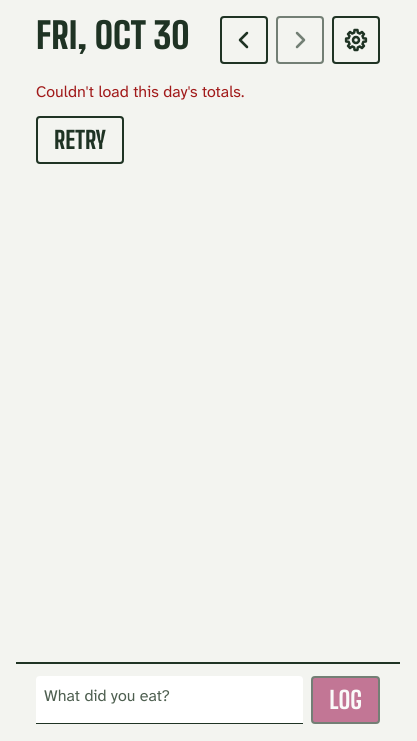
Test: Today when entries can't load › loads again on Retry
This screenshot has width=417, height=741.
Click the button "Retry" at (80, 140), box [36,116,124,164]
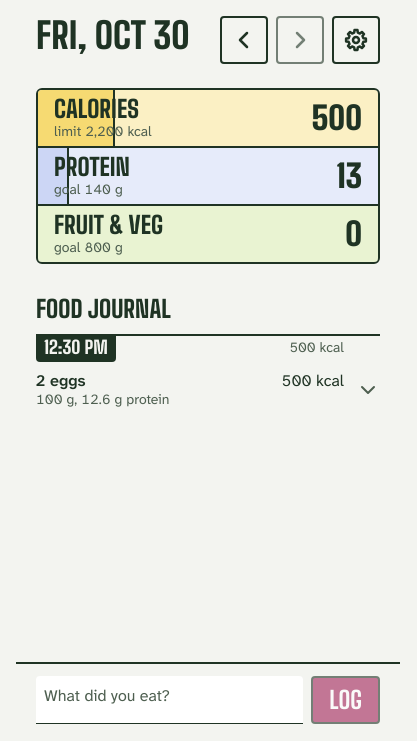
expect the text "Couldn't load this day's totals." is gone: met
